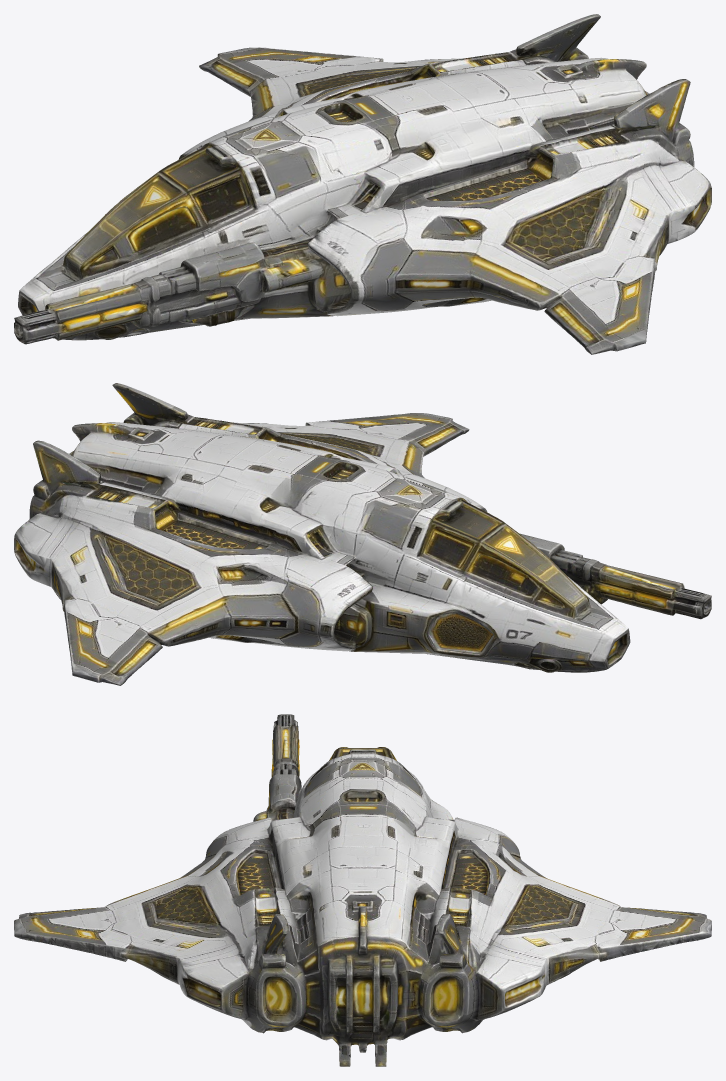
The model's file is Meshy_AI_Sniper_Class_Space_Fi_0625034459_image-to-3d-texture.glb.
The picture shows the model from 3 angles, top to bottom: view 1: azimuth 30°, elevation 25°; view 2: azimuth 150°, elevation 25°; view 3: azimuth 270°, elevation 25°; orthographic projection. The views are drawn at different scales.
Size of the model in its own units: 1.85 by 0.461 by 1.9.
1 material, 1 textured.
